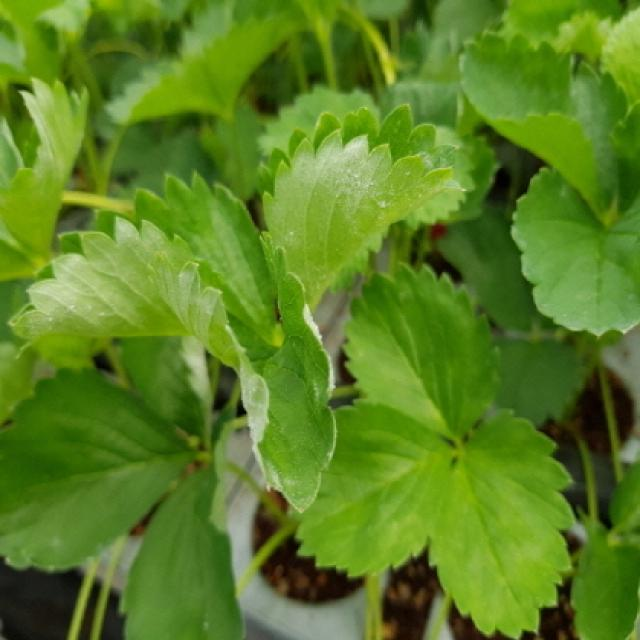Powdery Mildew Leaf: (149, 234, 339, 514), (4, 171, 277, 362), (256, 103, 472, 310)
